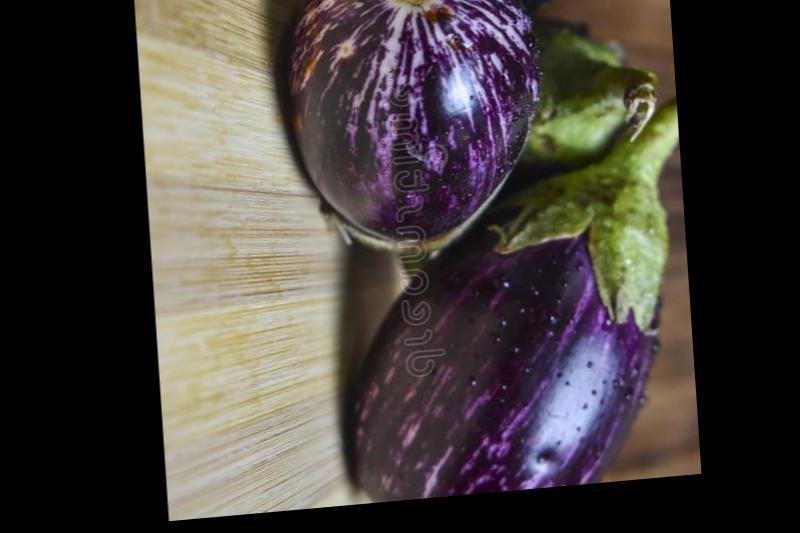eggplant: (276, 0, 666, 513), (325, 228, 678, 510), (265, 0, 550, 217), (327, 0, 613, 107)
